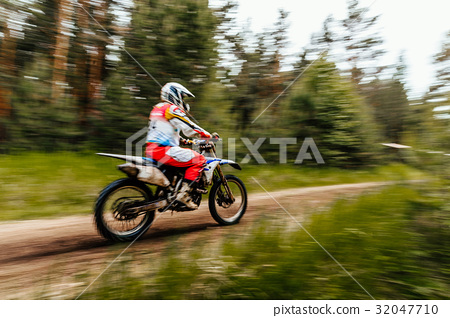helmet: (156, 77, 197, 112)
